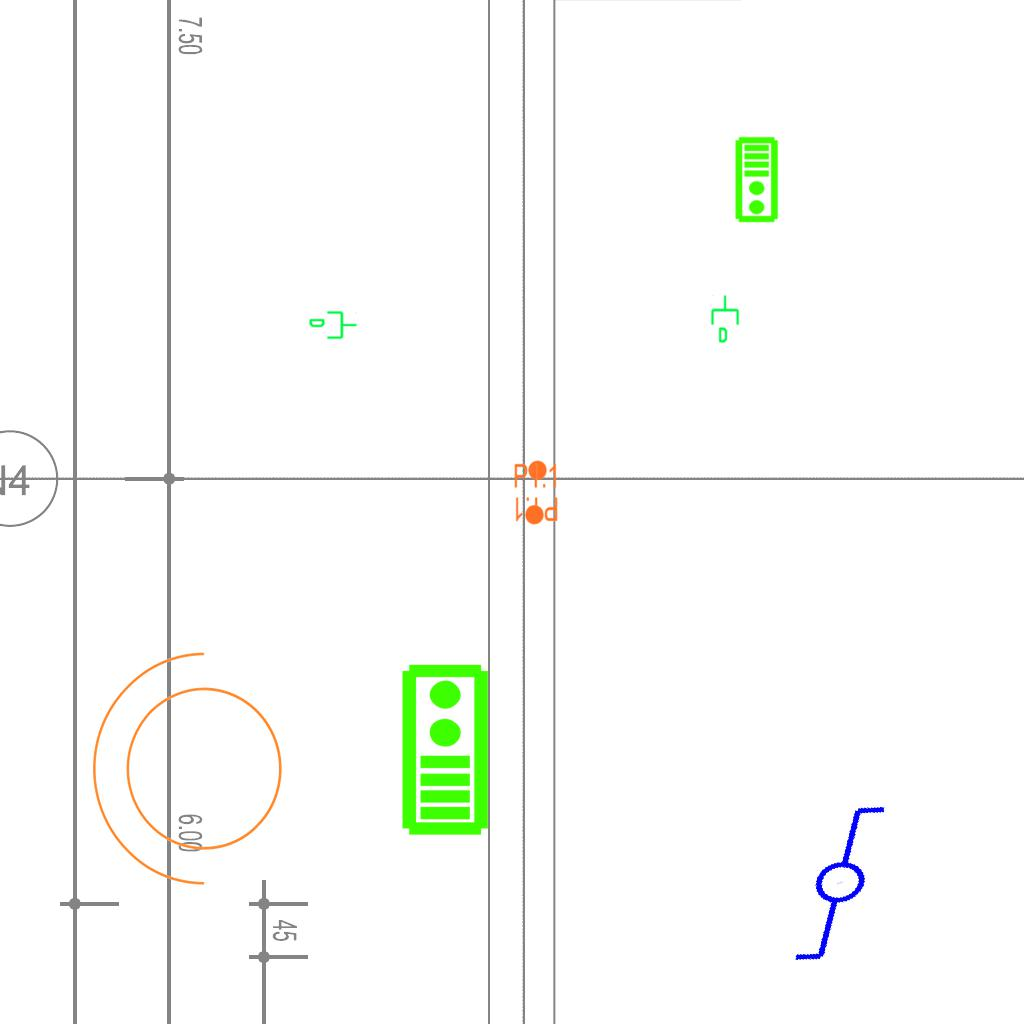Datenanschluss_einfach: (709, 294, 743, 344), (308, 309, 358, 343)
Downlight_LED_Einbauleuchten_Flur: (513, 459, 559, 523), (513, 462, 559, 526)
Gegensprechanlage_mit_Video: (396, 661, 491, 837), (734, 136, 781, 224)
Scheinwerfer_fuer_Alarmbeleuchtung: (82, 643, 307, 907)
Wechselschalter: (751, 789, 946, 975)
